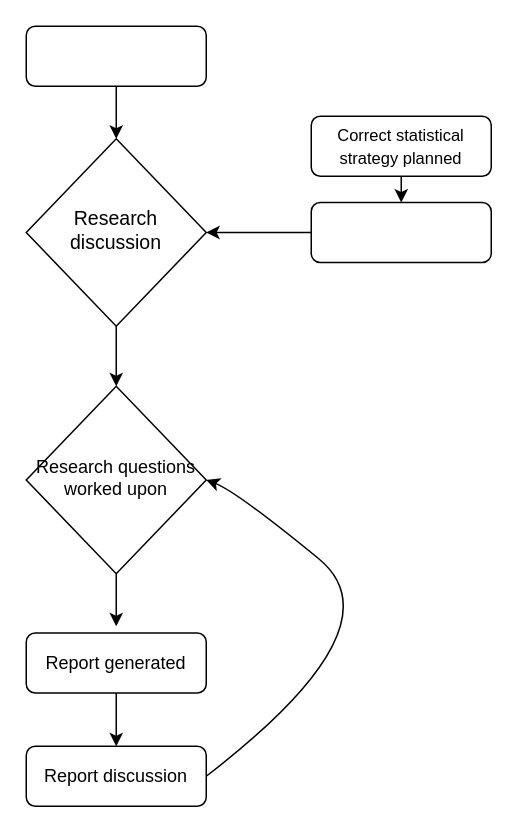
The diagram is 518 pixels wide and 833 high, and some of its shapes have lost their labels. Each missing label, with the centre of its shape:
Data is provided to me: the point at 115,55
Research Hypothesis agreed upon: the point at 400,231
